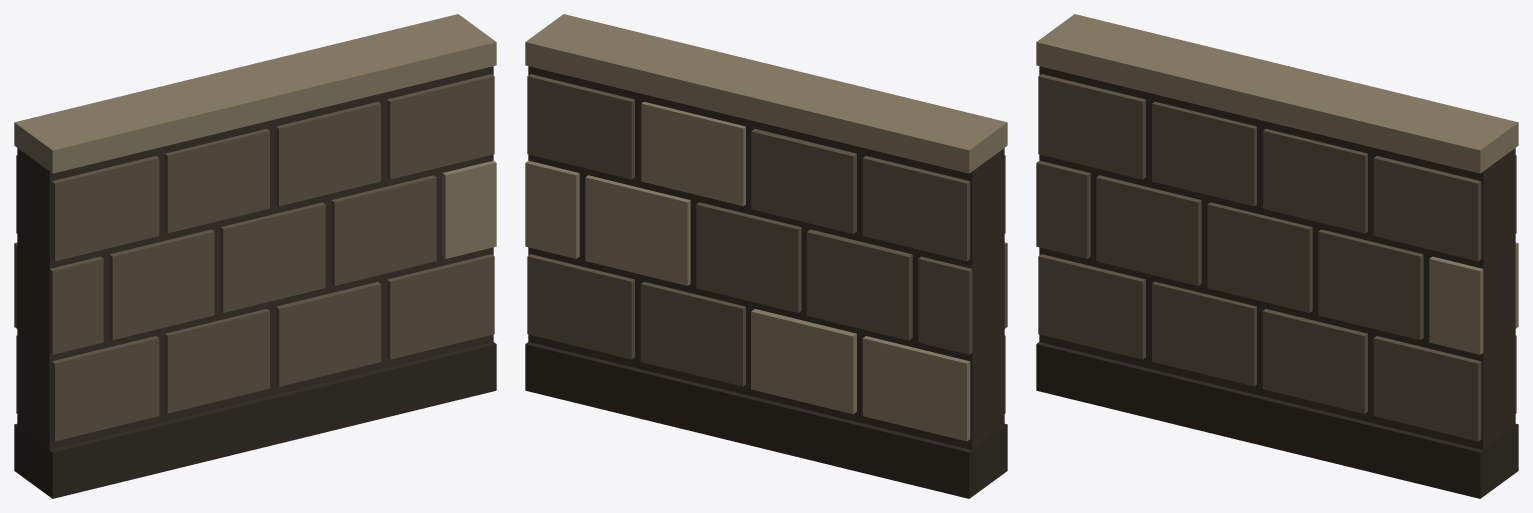
Rendered from B0_ParedModulo.fbx.
3 views of the same model, side by side, from view 1: azimuth 30°, elevation 25°; view 2: azimuth 150°, elevation 25°; view 3: azimuth 330°, elevation 25° (orthographic).
Parts seen in each view (by area): view 1: B0_ParedModulo; view 2: B0_ParedModulo; view 3: B0_ParedModulo.
Boxes of the visible parts, box(x1,y1,x2,y2) form: B0_ParedModulo: box(14, 14, 496, 498); B0_ParedModulo: box(525, 14, 1007, 498); B0_ParedModulo: box(1036, 14, 1518, 498).
Size of the model in its own units: 4 by 0.6119 by 3.
